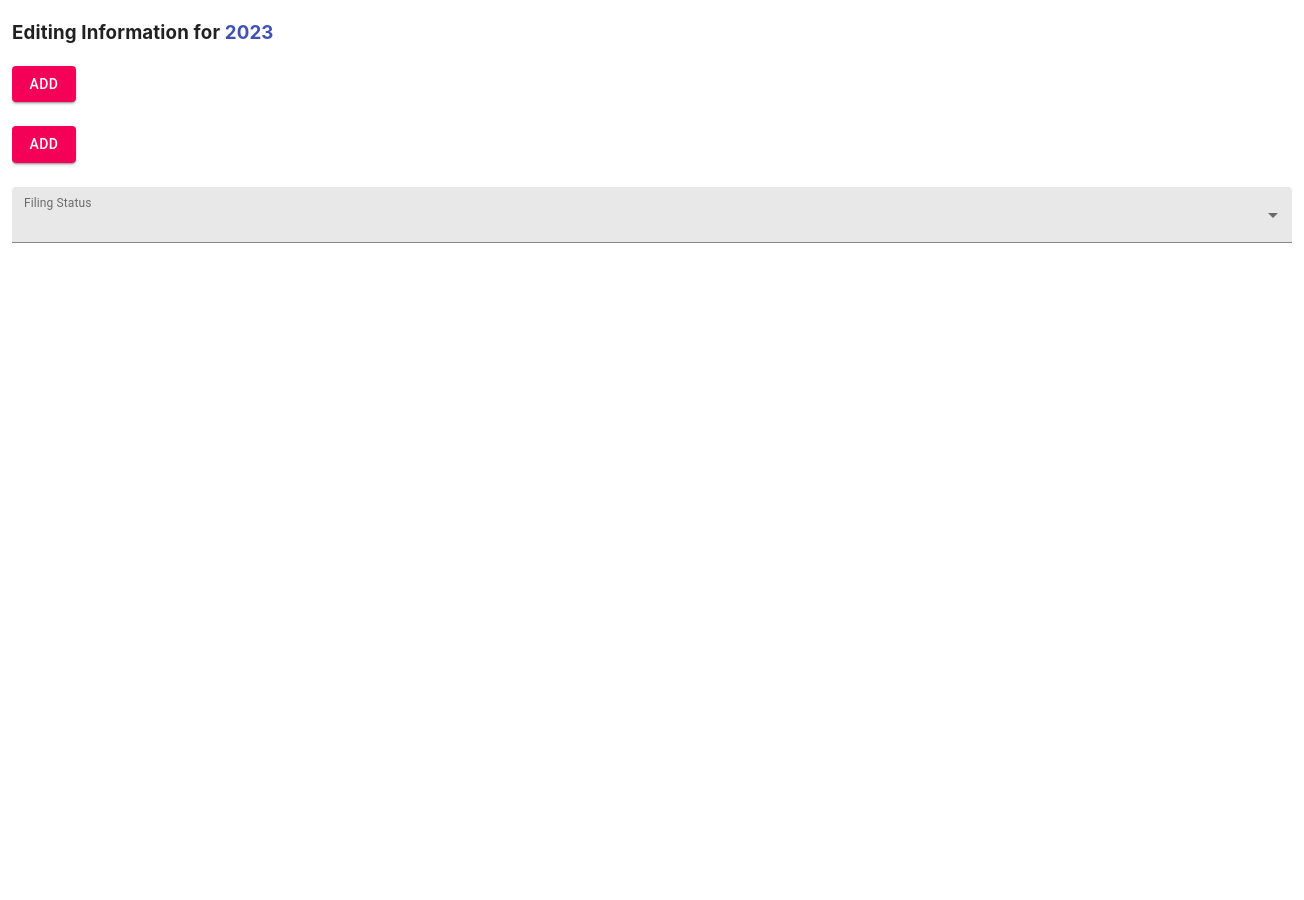
Test: Dependents › renders dependent form element when add button is clicked
Expected: the 1st button "Add" is shown, [12, 66, 76, 102]
Click the 2nd button "Add" at (44, 144), box [12, 126, 76, 162]
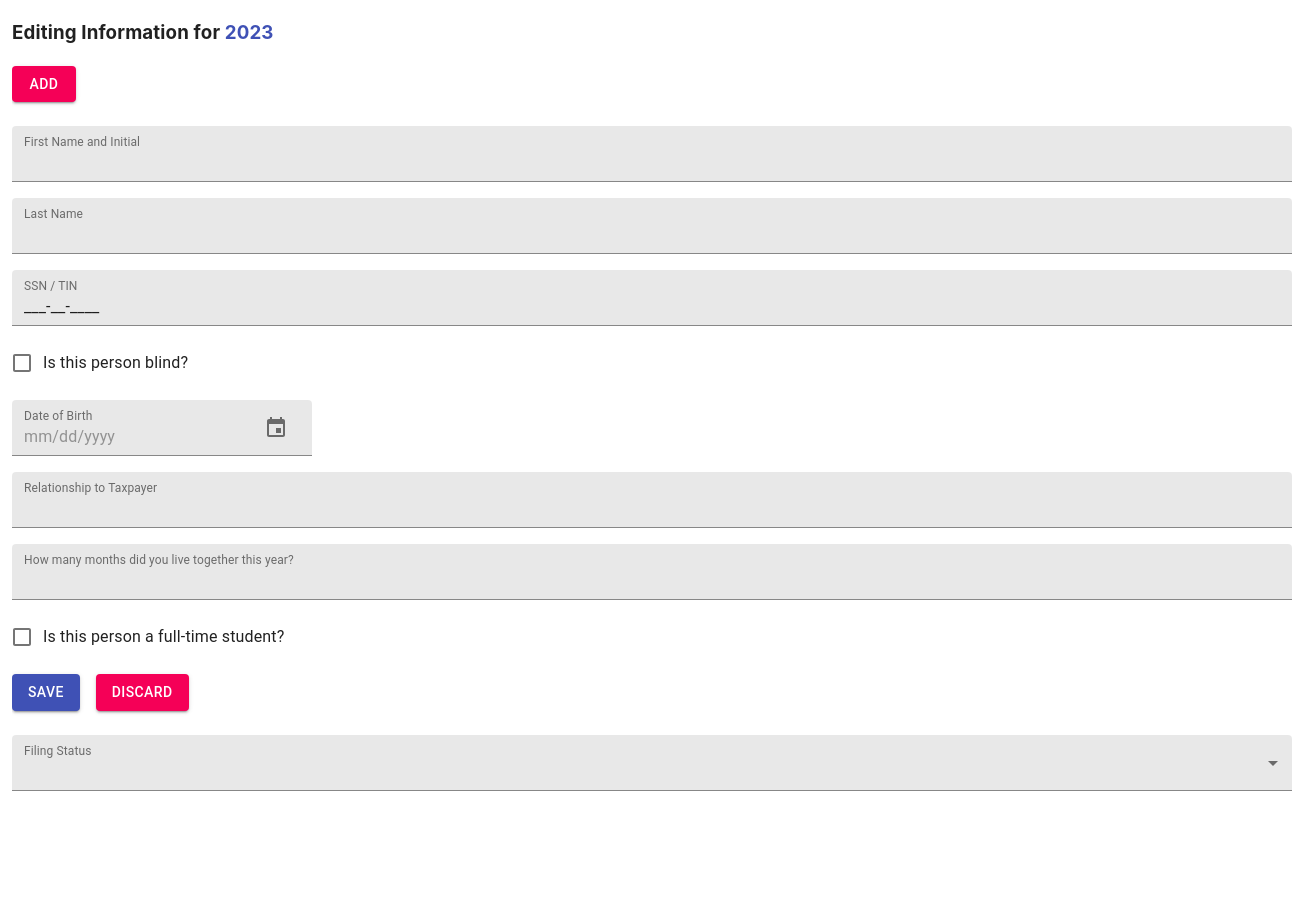
Result: the text "First Name and Initial" is shown at [24, 136, 140, 148]
Result: the text "Last Name" is shown at [24, 208, 83, 220]
Result: the text "SSN / TIN" is shown at [24, 280, 78, 292]
Click the button "Discard" at (142, 692), box [96, 674, 188, 710]
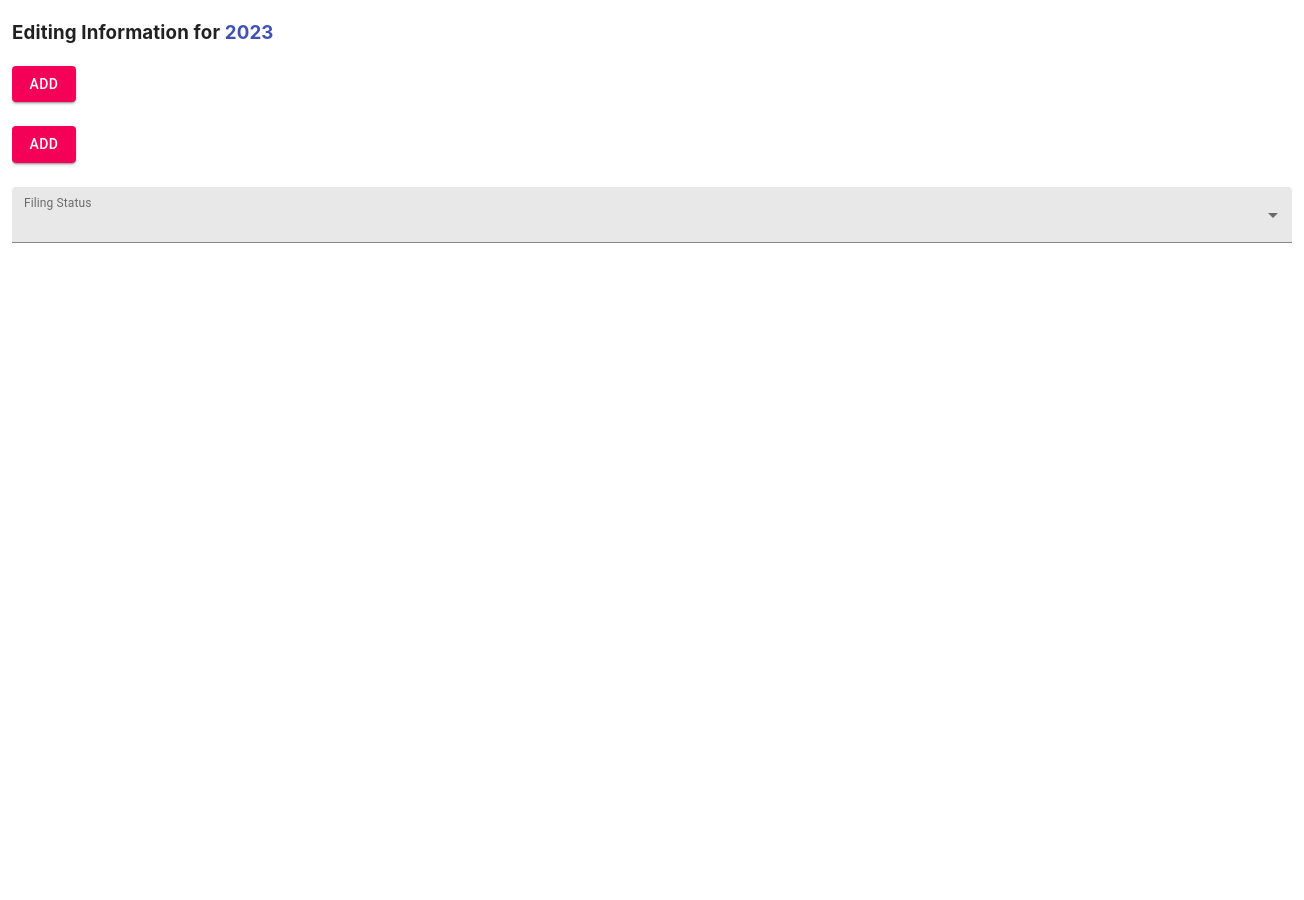
Result: the text "First Name and Initial" is gone
Result: the text "Last Name" is gone
Result: the text "SSN / TIN" is gone
